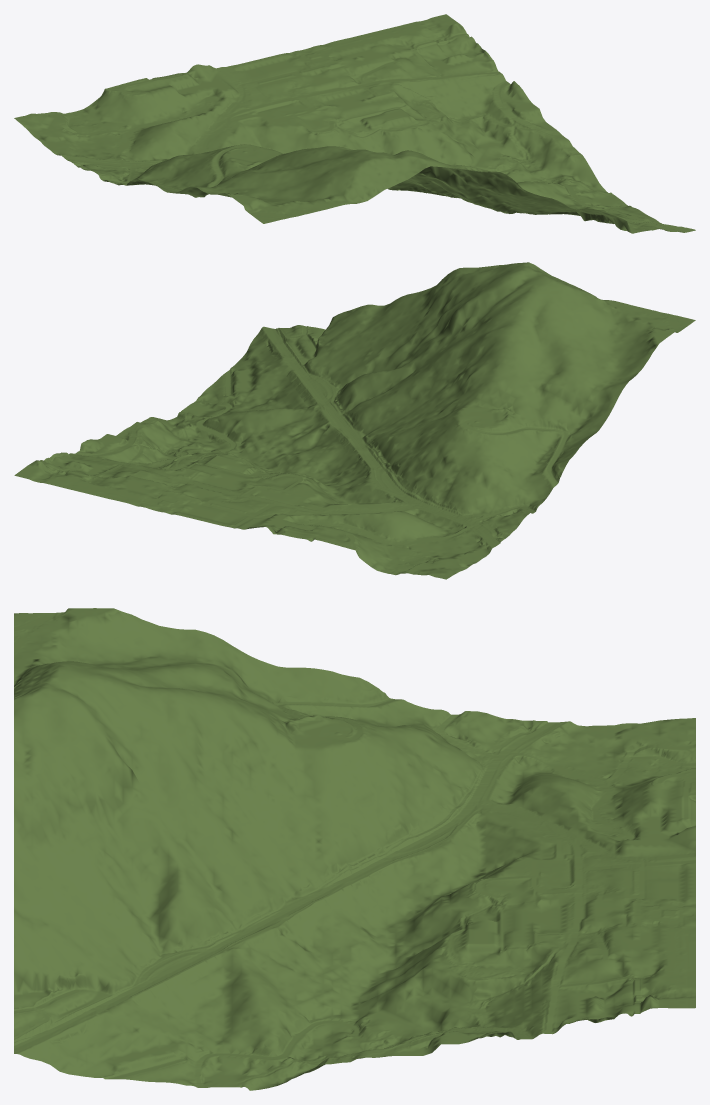
File: terrain_1_1.glb
3 views of the same model, one above another, from view 1: azimuth 30°, elevation 25°; view 2: azimuth 150°, elevation 25°; view 3: azimuth 270°, elevation 25° (orthographic). The views are drawn at different scales.
Visible parts, largest first — view 1: terrain_1_1; view 2: terrain_1_1; view 3: terrain_1_1.
Part boxes in pixels (box(x1,y1,x2,y2)): terrain_1_1: box(14, 14, 695, 233); terrain_1_1: box(14, 262, 695, 579); terrain_1_1: box(14, 608, 695, 1090).
Size of the model in its own units: 600 by 213 by 600.
